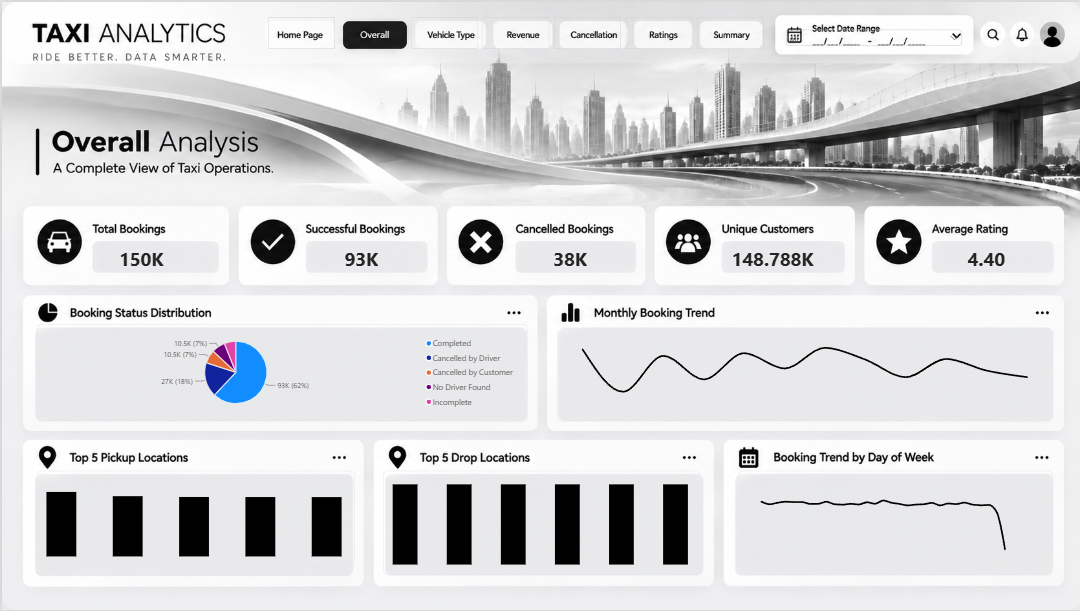

Layout of this report page (visuals, bound fields, positions):
{"tool":"powerbi","page":{"name":"Overall","canvas":[1920,1080],"ordinal":1},"visuals":[{"type":"lineChart","fields":{"Category":["rideBookings.Date.Variation.Date Hierarchy.Month"],"Y":["CountNonNull(rideBookings.Booking Status)"]},"box":[986.3,582.7,881.3,162.9],"z":0},{"type":"pieChart","fields":{"Category":["rideBookings.Booking Status"],"Y":["CountNonNull(rideBookings.Booking Status)"]},"box":[61.5,573.7,872.3,171.9],"z":1000},{"type":"lineChart","fields":{"Category":["rideBookings.Date.Variation.Date Hierarchy.Day"],"Y":["CountNonNull(rideBookings.Booking Status)"]},"box":[1308.4,832.4,559.2,170.1],"z":2000},{"type":"hundredPercentStackedColumnChart","fields":{"Category":["rideBookings.Drop Location"],"Y":["Count(rideBookings.Booking ID)"]},"box":[676.8,832.4,562.8,184.6],"z":3000},{"type":"clusteredColumnChart","fields":{"Category":["rideBookings.Pickup Location"],"Y":["Count(rideBookings.Booking ID)"]},"box":[61.5,832.4,564.6,170.1],"z":4000},{"type":"cardVisual","fields":{"Data":["rideBookings.TotalBookings"]},"box":[150.2,432.5,193.6,45.2],"z":5000},{"type":"cardVisual","fields":{"Data":["rideBookings.TotalBookings"]},"box":[542.9,434.3,193.6,45.2],"z":6000},{"type":"cardVisual","fields":{"Data":["rideBookings.TotalBookings"]},"box":[913.9,432.5,193.5,45.3],"z":7000},{"type":"cardVisual","fields":{"Data":["Count(rideBookings.Customer ID)"]},"box":[1274,432.5,193.6,45.2],"z":8000},{"type":"cardVisual","fields":{"Data":["Avg(rideBookings.Customer Rating)"]},"box":[1654,432.5,193.6,45.2],"z":9000},{"type":"pageNavigator","box":[472.3,27.1,881.3,57.9],"z":10000},{"type":"slicer","fields":{"Values":["rideBookings.Date"]},"box":[1389.8,43.4,322.1,41.6],"z":11000}]}

Visuals, with their boxes on the page's 1920x1080 design canvas (x1, y1, x2, y2). These are canvas units, not pixel positions in the 1080x611 screenshot, which may show the page scaled, cropped or inside an application window:
lineChart - rideBookings.Date.Variation.Date Hierarchy.Month x CountNonNull(rideBookings.Booking Status): crop(986, 583, 1868, 746)
pieChart - rideBookings.Booking Status x CountNonNull(rideBookings.Booking Status): crop(62, 574, 934, 746)
lineChart - rideBookings.Date.Variation.Date Hierarchy.Day x CountNonNull(rideBookings.Booking Status): crop(1308, 832, 1868, 1002)
hundredPercentStackedColumnChart - rideBookings.Drop Location x Count(rideBookings.Booking ID): crop(677, 832, 1240, 1017)
clusteredColumnChart - rideBookings.Pickup Location x Count(rideBookings.Booking ID): crop(62, 832, 626, 1002)
cardVisual - rideBookings.TotalBookings: crop(150, 432, 344, 478)
cardVisual - rideBookings.TotalBookings: crop(543, 434, 736, 480)
cardVisual - rideBookings.TotalBookings: crop(914, 432, 1107, 478)
cardVisual - Count(rideBookings.Customer ID): crop(1274, 432, 1468, 478)
cardVisual - Avg(rideBookings.Customer Rating): crop(1654, 432, 1848, 478)
pageNavigator: crop(472, 27, 1354, 85)
slicer - rideBookings.Date: crop(1390, 43, 1712, 85)
